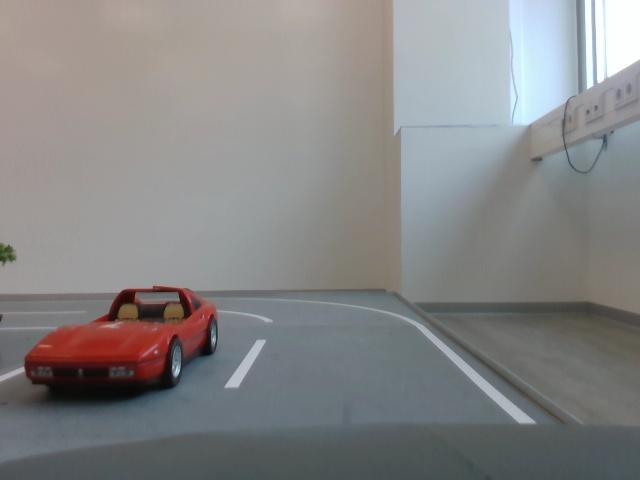car: (20, 274, 232, 410)
